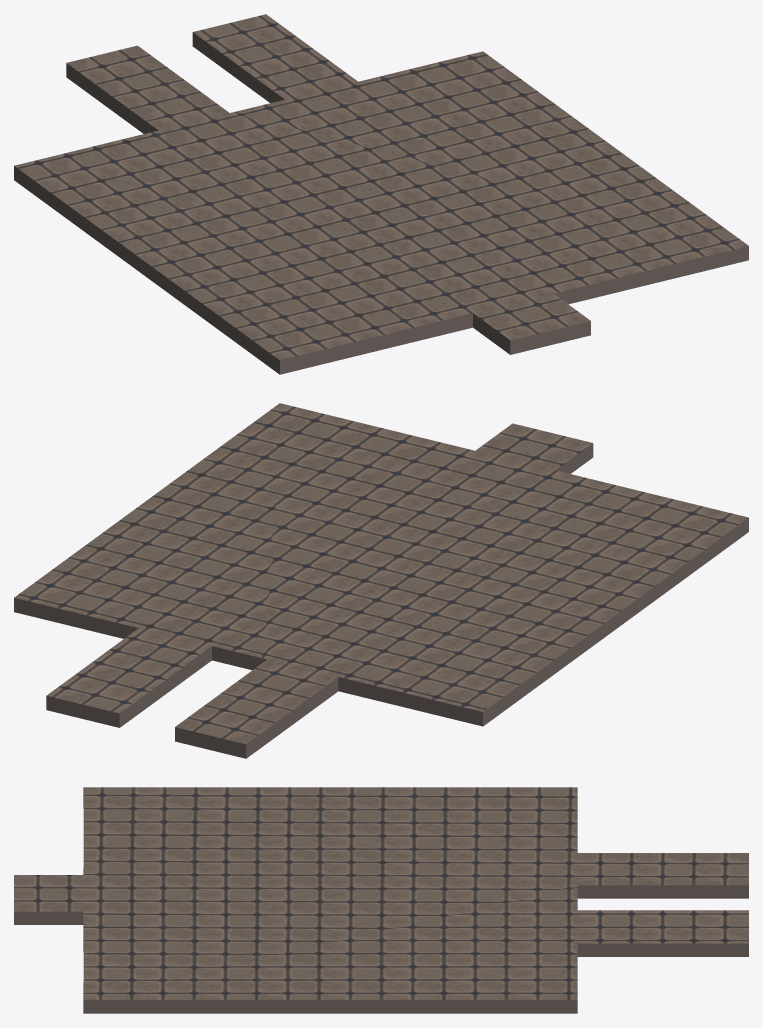
File: 3rd floor.fbx
The picture shows the model from 3 angles, top to bottom: view 1: azimuth 30°, elevation 25°; view 2: azimuth 150°, elevation 25°; view 3: azimuth 270°, elevation 25°; orthographic projection. The views are drawn at different scales.
Parts seen in each view (by area): view 1: 3rd; view 2: 3rd; view 3: 3rd.
Boxes of the visible parts, bbox=[...] form: 3rd: bbox=[14, 14, 748, 374]; 3rd: bbox=[14, 403, 748, 758]; 3rd: bbox=[14, 787, 748, 1013].
Size of the model in its own units: 2089 by 61.37 by 3051.
